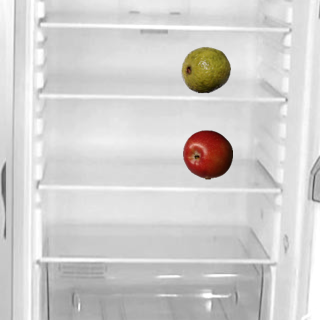Apple Braeburn: (182, 129, 232, 179)
Guava: (180, 44, 230, 94)
